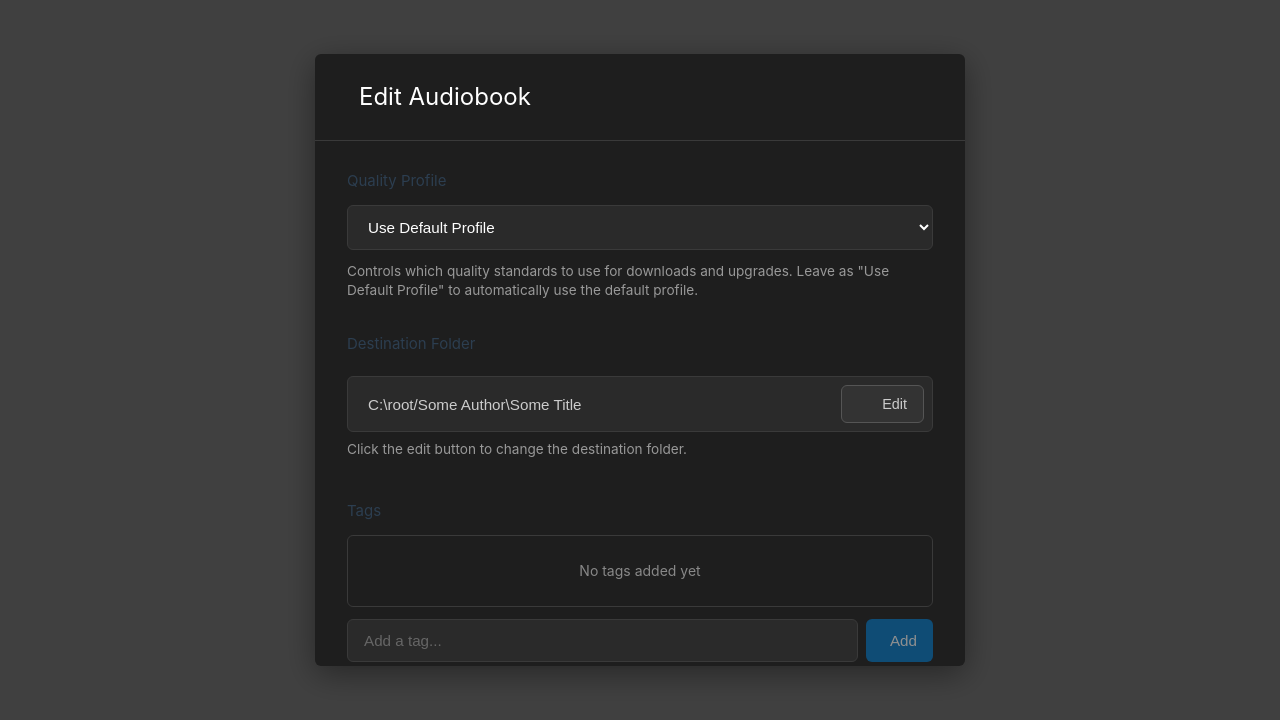
Scenario: EditAudiobookModal relative path calculation › normalizes absolute path to relative when Done is clicked
(page scrolled)
Enter edit mode
Click the button with class "btn-edit-destination".
click(883, 404)  # box [841,386,924,423]
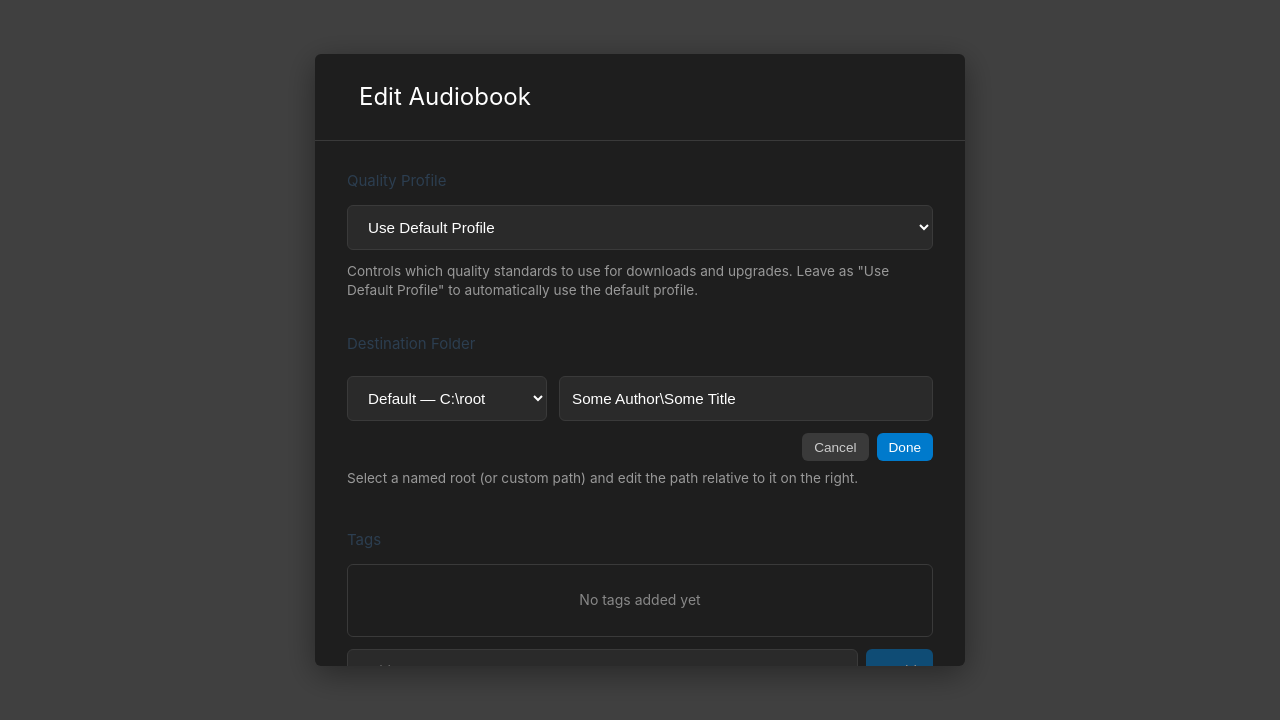
Now the field with class "relative-input" is shown
Simulate user typing a full absolute path into the relative input
Replace the text in the field with class "relative-input" with "C:\\root\\New Author\\New Title" at x=746, y=399, box [559,376,933,422]
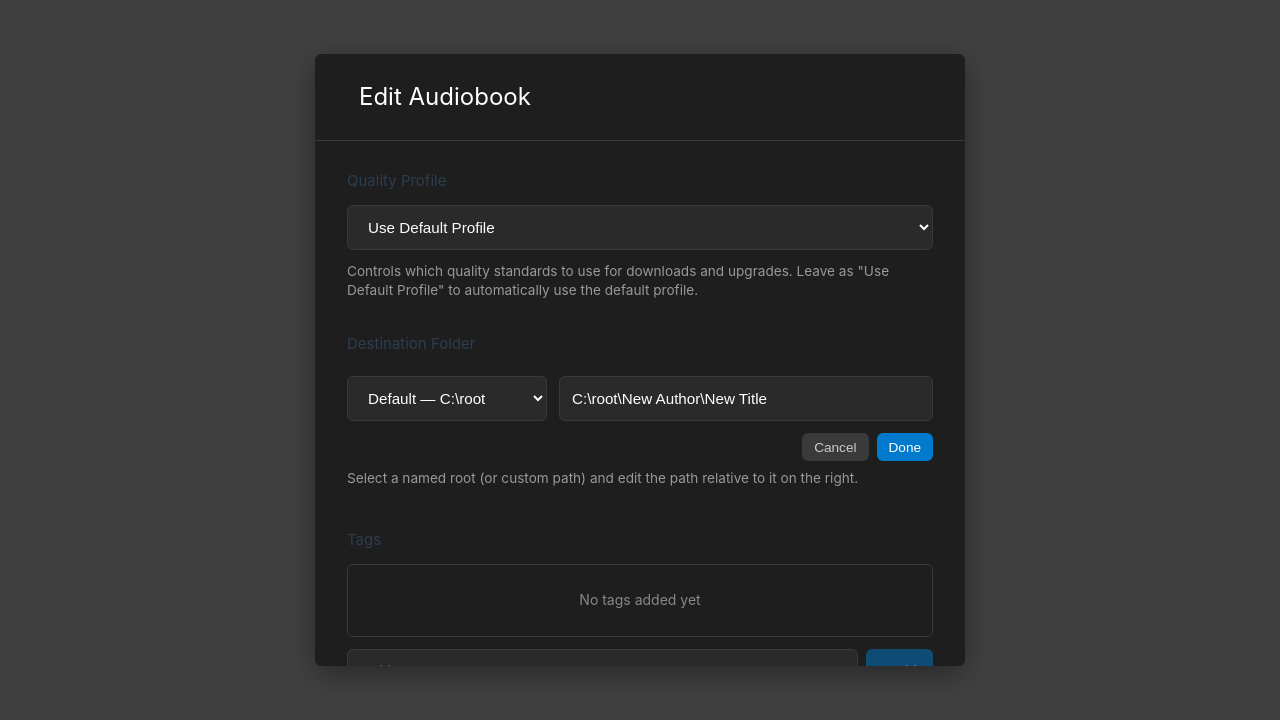
Click Done (should normalize to relative path)
Click the button "Done".
click(905, 447)  # box [876,434,933,461]
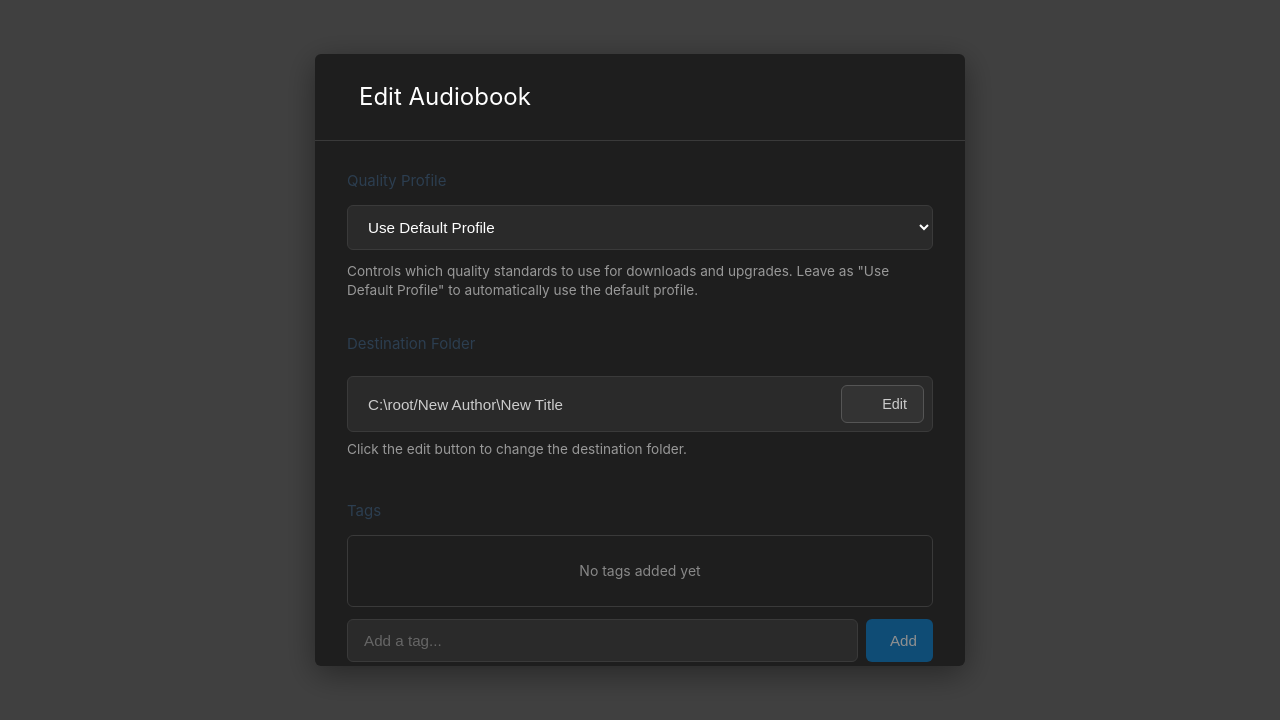
Re-open editor
Click the button with class "btn-edit-destination".
click(883, 404)  # box [841,386,924,423]
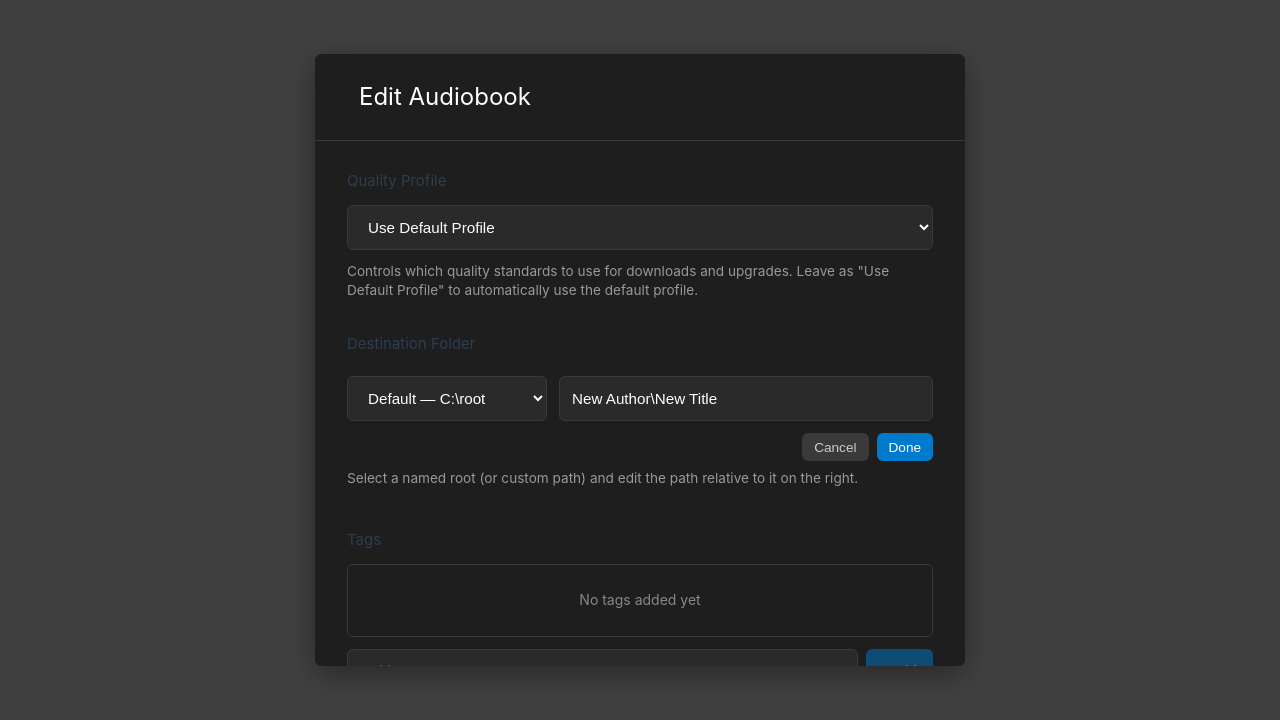
Now the field with class "relative-input" holds "New Author\\New Title", box [559,376,933,422]
